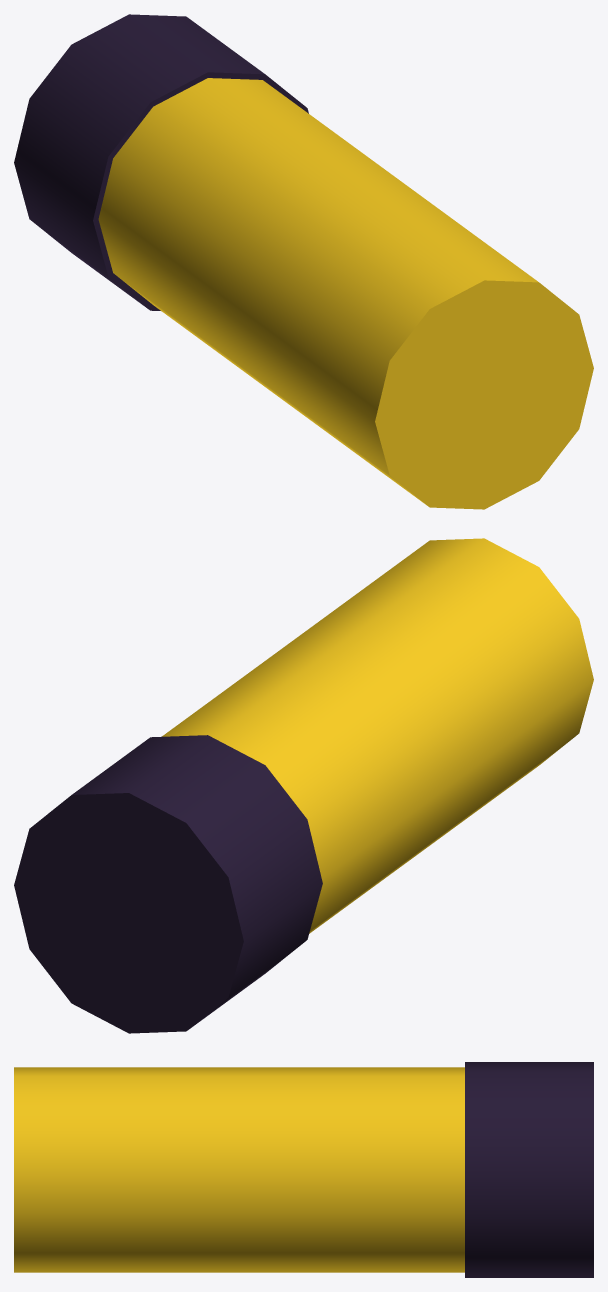
Rendered from battery.glb.
The picture shows the model from 3 angles, top to bottom: view 1: azimuth 30°, elevation 25°; view 2: azimuth 150°, elevation 25°; view 3: azimuth 270°, elevation 25°; orthographic projection. The views are drawn at different scales.
Parts seen in each view (by area): view 1: mBattery_cell, mInk_cap; view 2: mBattery_cell, mInk_cap; view 3: mBattery_cell, mInk_cap.
Boxes of the visible parts, x1,y1,x2,y2 form: mBattery_cell: [98, 78, 593, 509]; mInk_cap: [14, 14, 308, 310]; mBattery_cell: [162, 538, 593, 933]; mInk_cap: [14, 735, 322, 1033]; mBattery_cell: [14, 1067, 464, 1272]; mInk_cap: [465, 1062, 593, 1277].
Bounding box in the file's own units: 0.042 × 0.042 × 0.1125.
